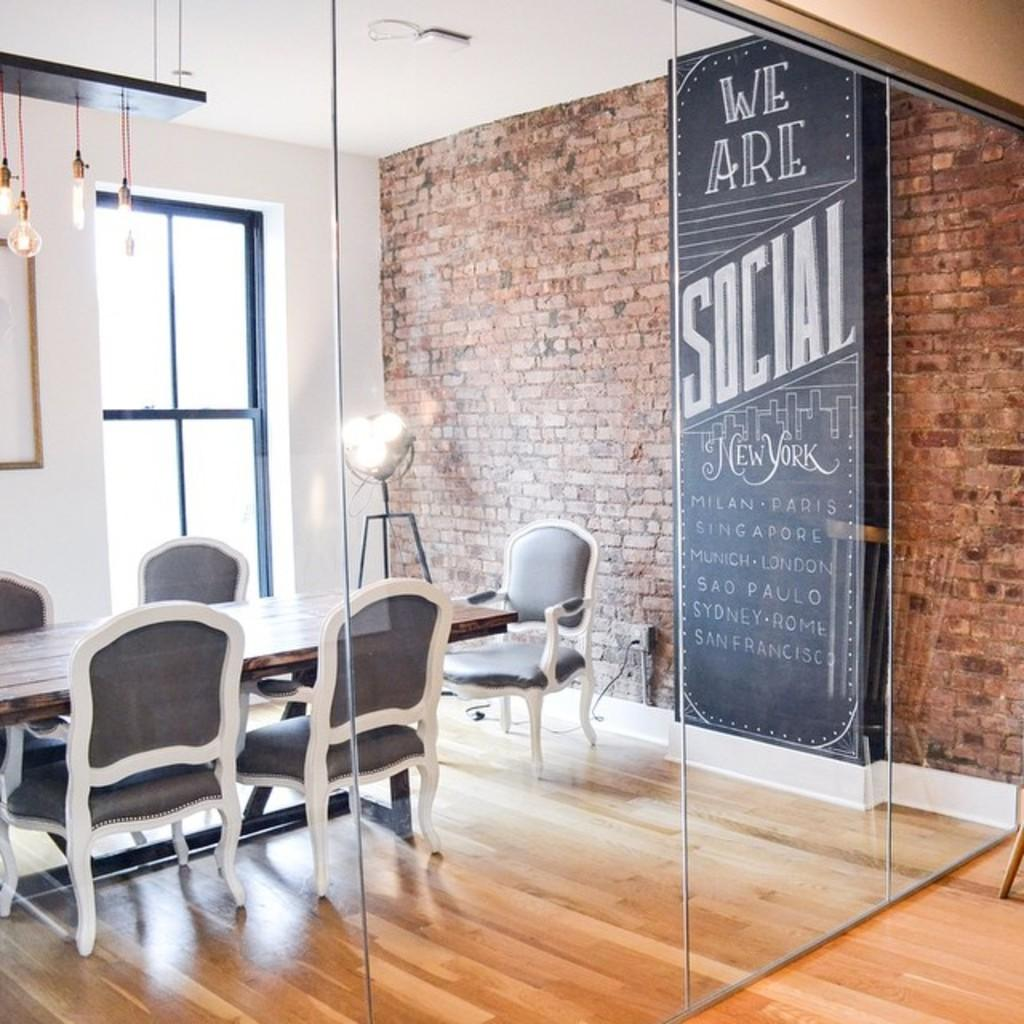Chair: (37, 582, 272, 962), (213, 579, 453, 898), (432, 512, 584, 766), (0, 570, 53, 747), (136, 530, 248, 610)
